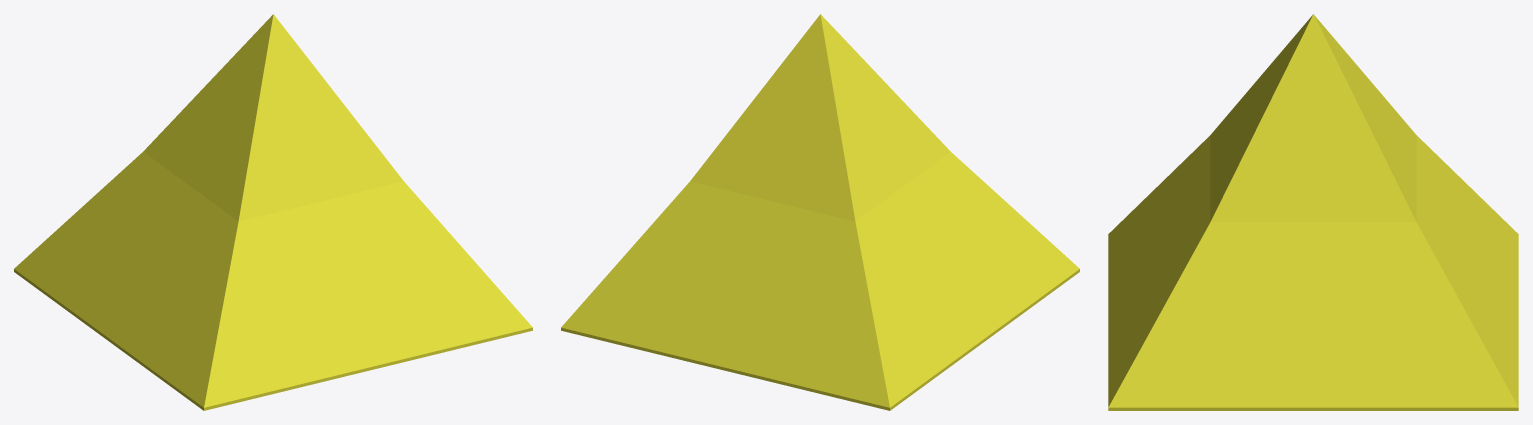
3 views of the same model, side by side, from view 1: azimuth 30°, elevation 25°; view 2: azimuth 150°, elevation 25°; view 3: azimuth 270°, elevation 25° (orthographic). The views are drawn at different scales.
Parts seen in each view (by area): view 1: Plane; view 2: Plane; view 3: Plane.
Boxes of the visible parts, bbox=[...] form: Plane: bbox=[14, 14, 532, 410]; Plane: bbox=[561, 14, 1079, 410]; Plane: bbox=[1108, 14, 1518, 410].
Size of the model in its own units: 23.91 by 19.95 by 23.91.
